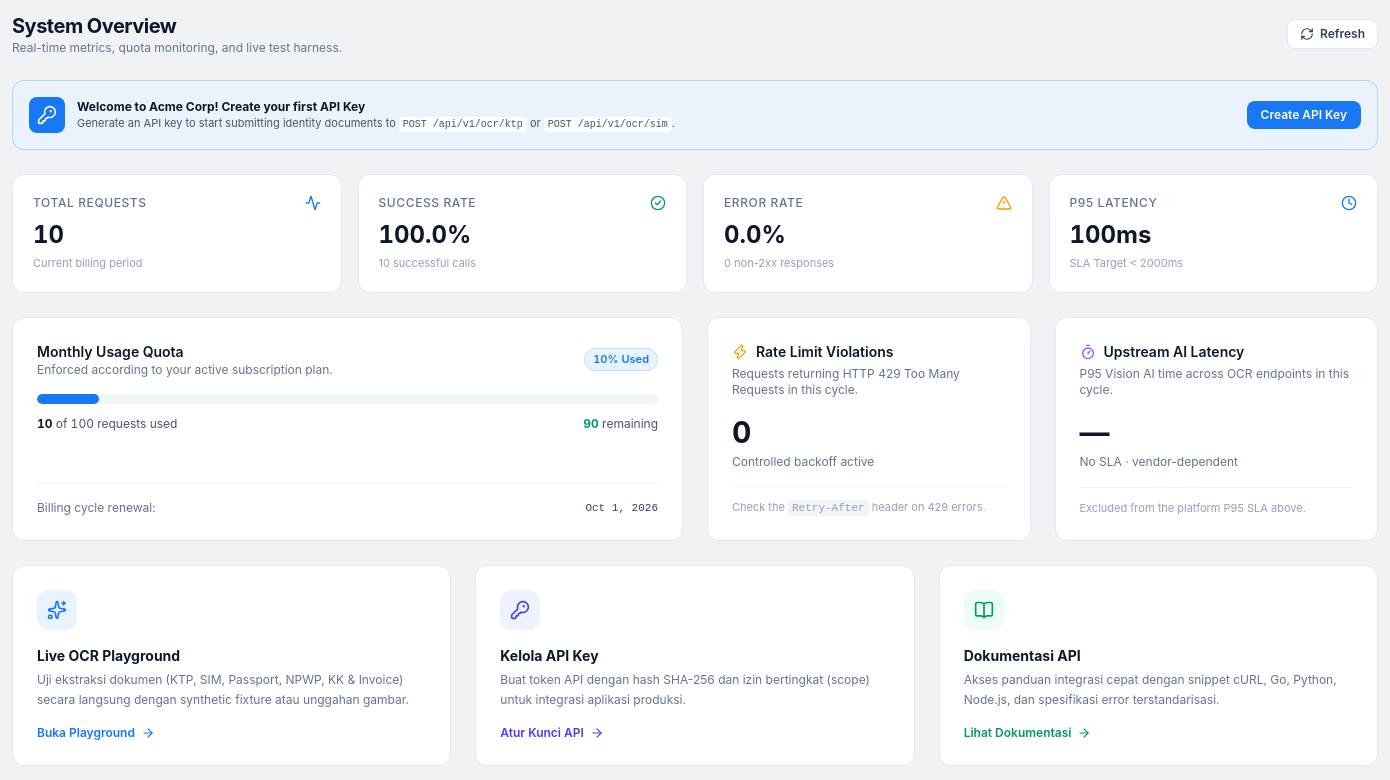
Scenario: OverviewPage › hides the first API key banner once the organization has keys
expect the text "Welcome to Acme Corp! Create your first API Key" is shown: met, box [77,98,365,114]
Click the button "Refresh": coordinates (1332, 34) [1287,19,1378,49]
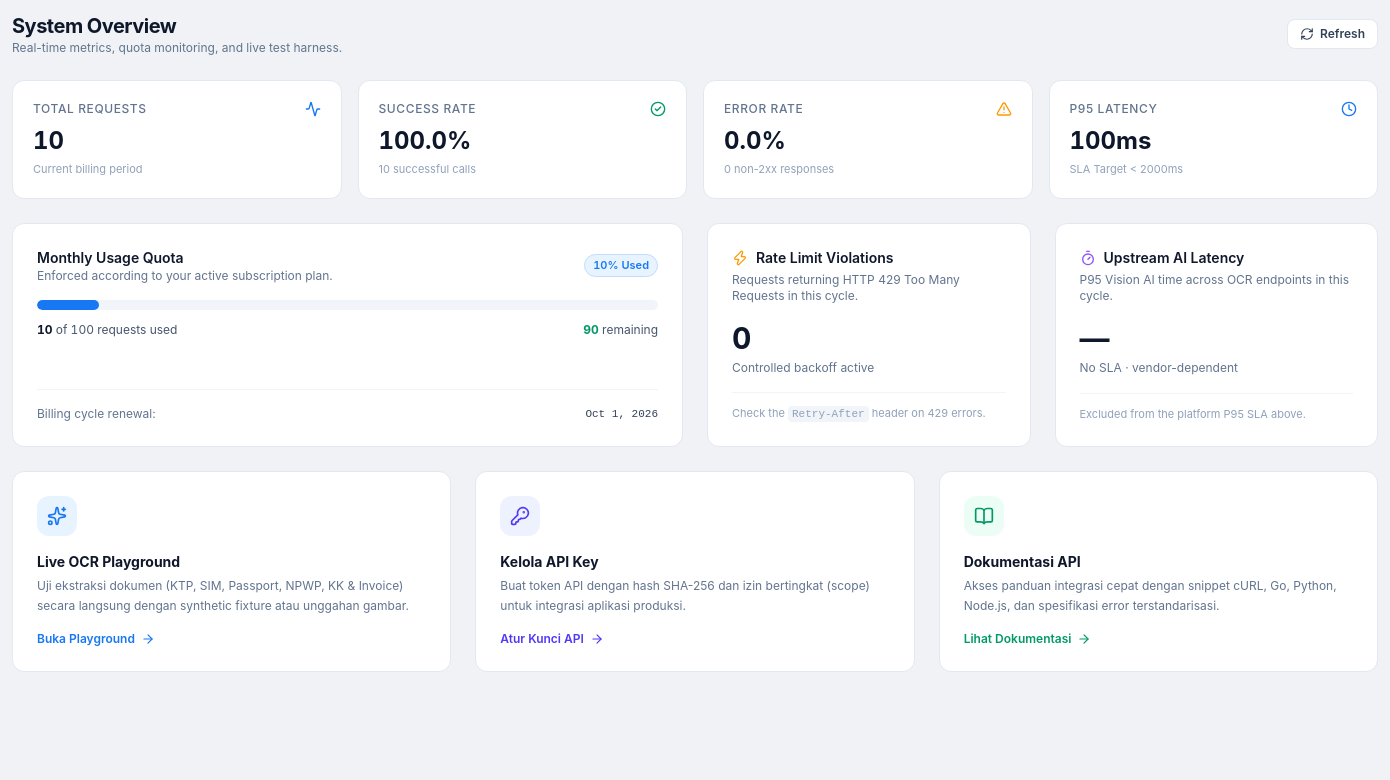
expect the text "Create your first API Key" is gone: met
